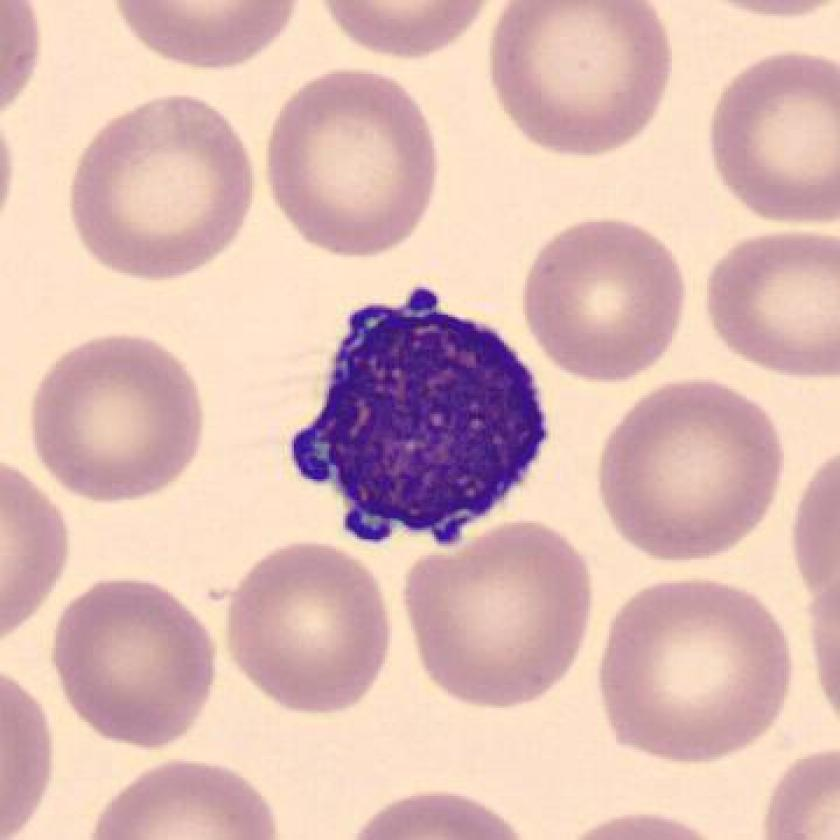lymphocyte: (269, 270, 575, 571)
